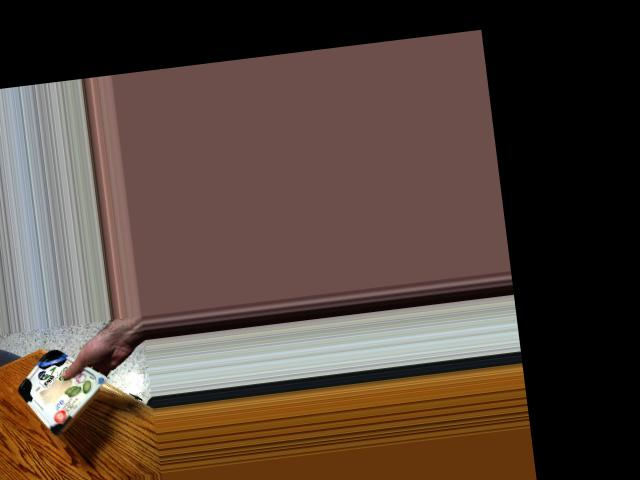cheese: (16, 355, 103, 426)
